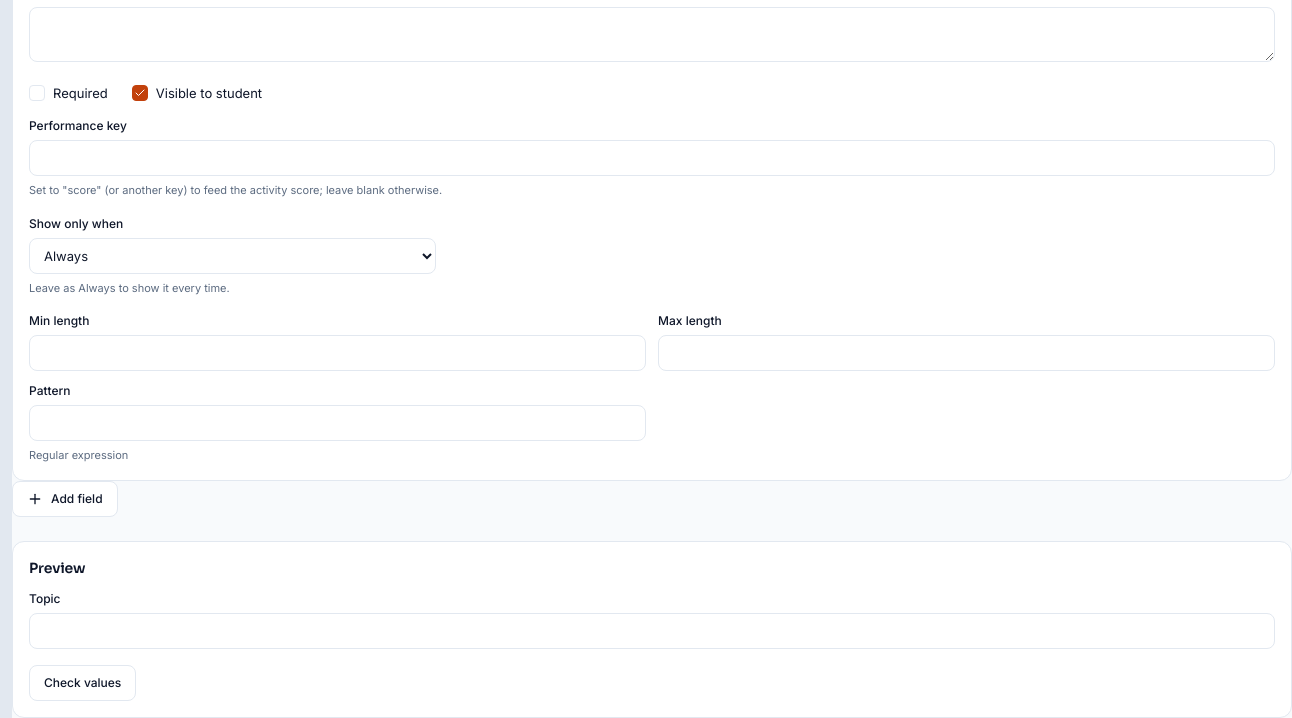
FieldEditor › shows a success notice when the preview passes
The image size is (1292, 718).
(page scrolled)
Click the button "Check values": (83, 683) [29,665,136,701]
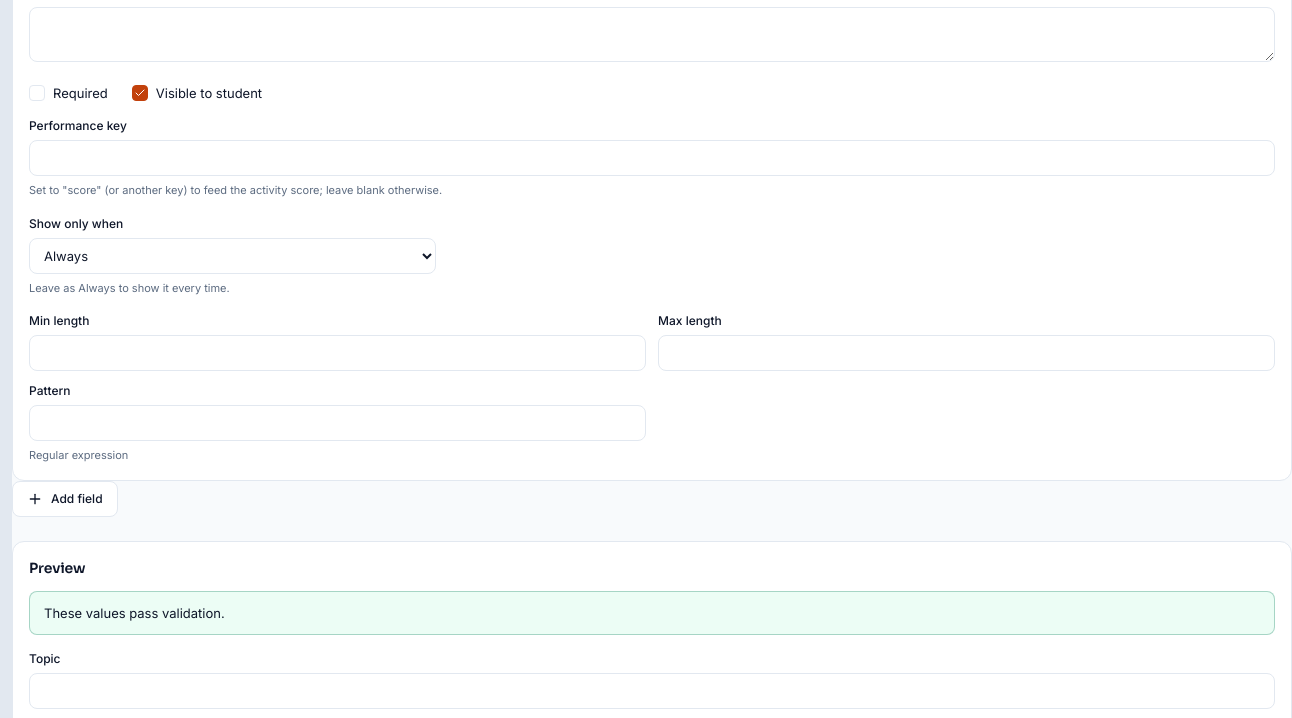
Result: the text "These values pass validation." is shown at [29,591,1275,635]
